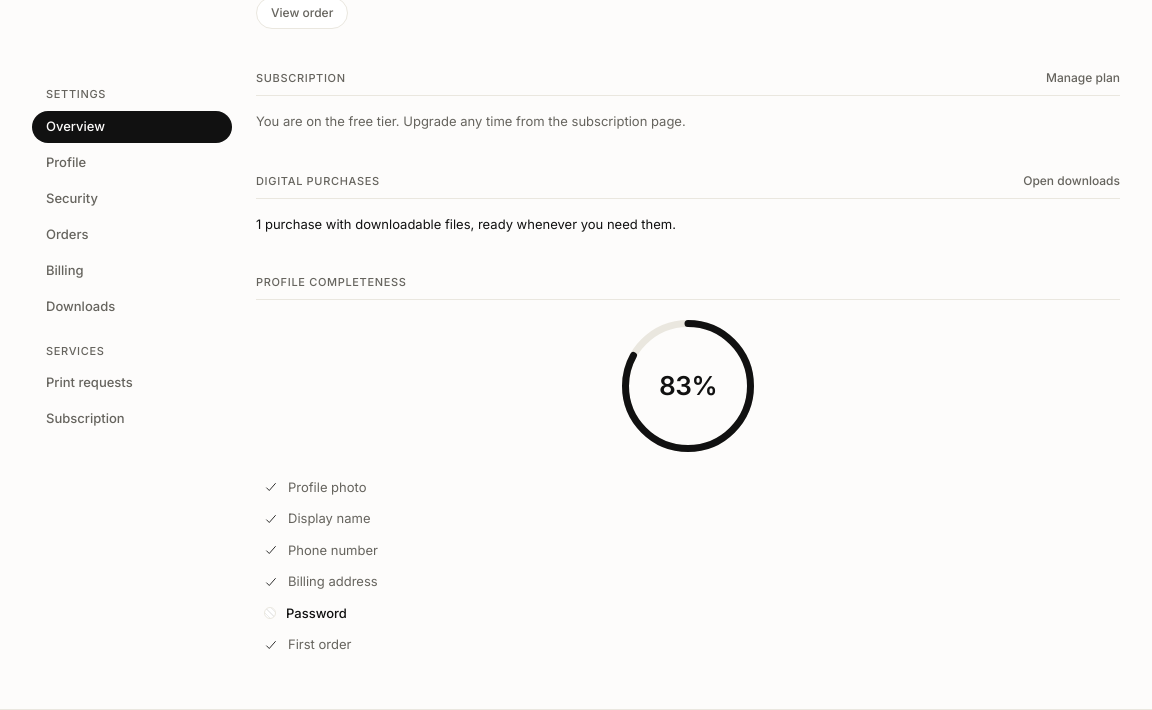
Test: Account hub › completeness ring derives its percentage from existing data and jump-links to sections
(page scrolled)
Expected: the text "83%" is shown, x1=659 y1=366 x2=717 y2=405
Expected: the picture named "Profile 83% complete" is shown, x1=622 y1=320 x2=754 y2=452
Missing item is a jump link to its section.
Click the button "Password" at [316, 612], box x1=256 y1=598 x2=1120 y2=629
(page scrolled)
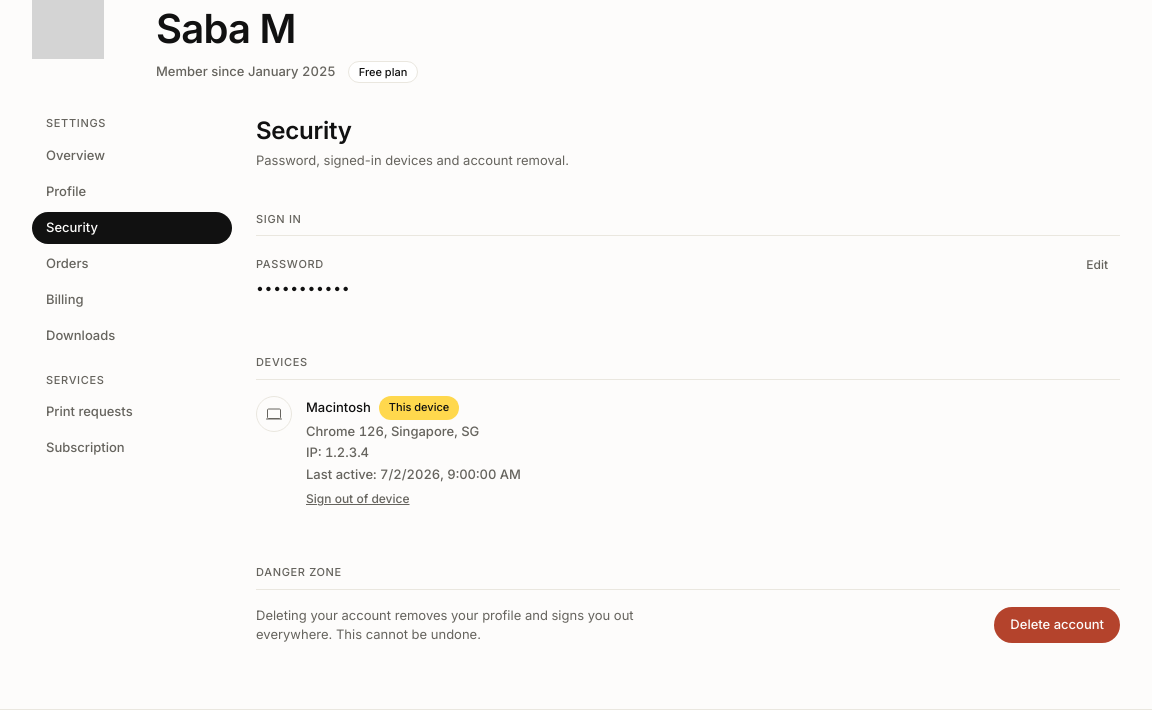
Result: the button "Delete account" is shown at x1=994 y1=607 x2=1120 y2=643
